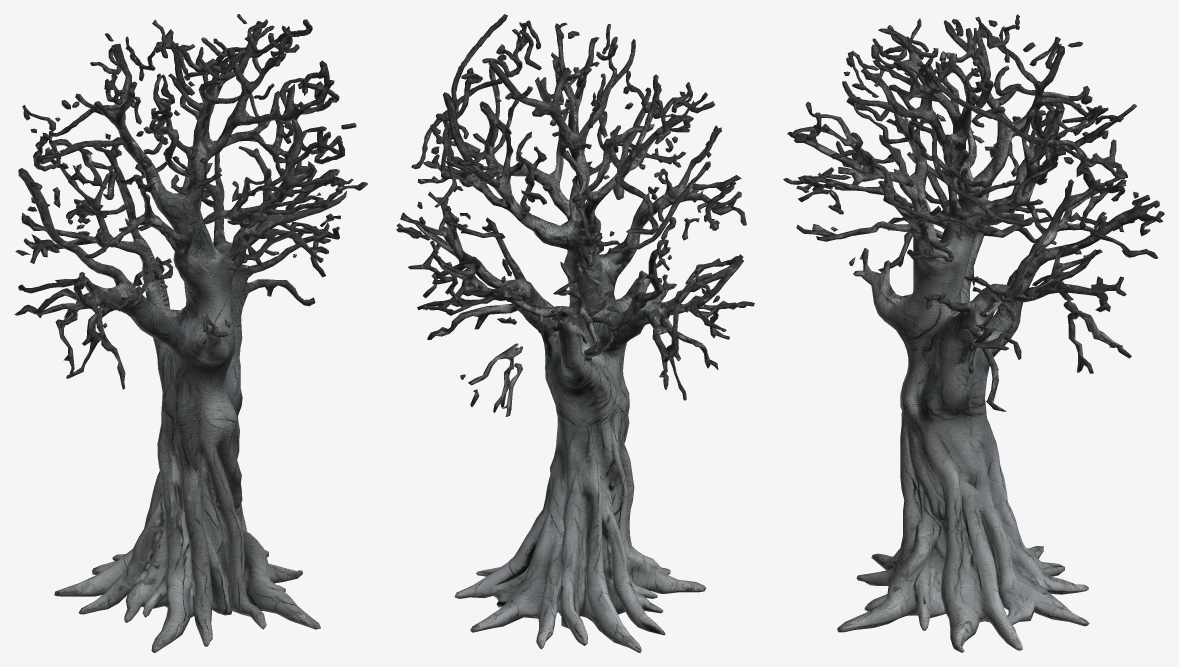
File: alderamontico-sacred-tree.glb
3 renders of one model, left to right at view 1: azimuth 30°, elevation 25°; view 2: azimuth 150°, elevation 25°; view 3: azimuth 270°, elevation 25°, orthographic. The views are drawn at different scales.
Size of the model in its own units: 1.12 by 1.91 by 1.14.
Materials: 1 (1 with a texture image).
